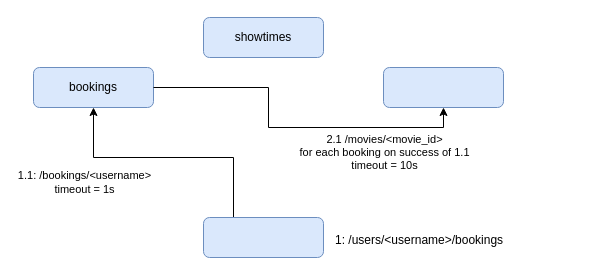
Some shapes in this 590 by 279 pixel diagram are drawn without their labels. Here are the shapes that lost their labels. From the top down, the box of each, then its label:
(382, 66, 504, 108): movies
(202, 216, 324, 258): users
